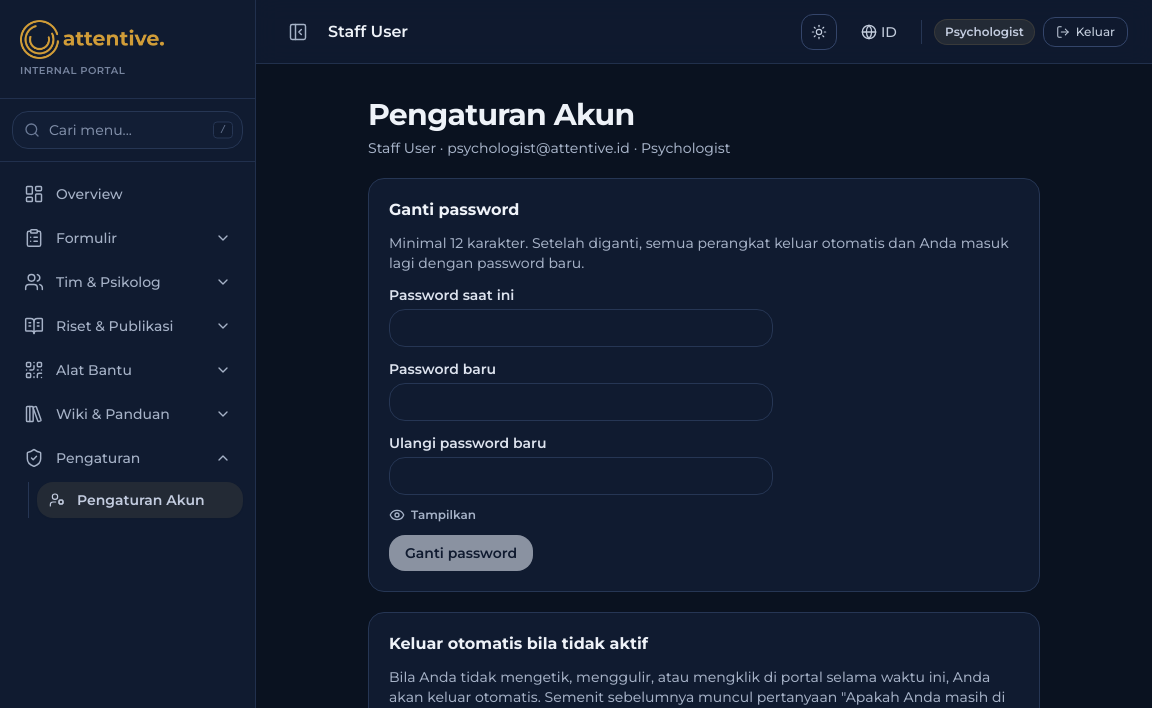
Scenario: admin dashboard update › checks the new password on the page before asking the server
Expected: the heading "Pengaturan Akun" is shown, [368, 96, 634, 133]
Type "old-password-123" into the password field labelled "Password saat ini" at (581, 328), box [389, 308, 773, 346]
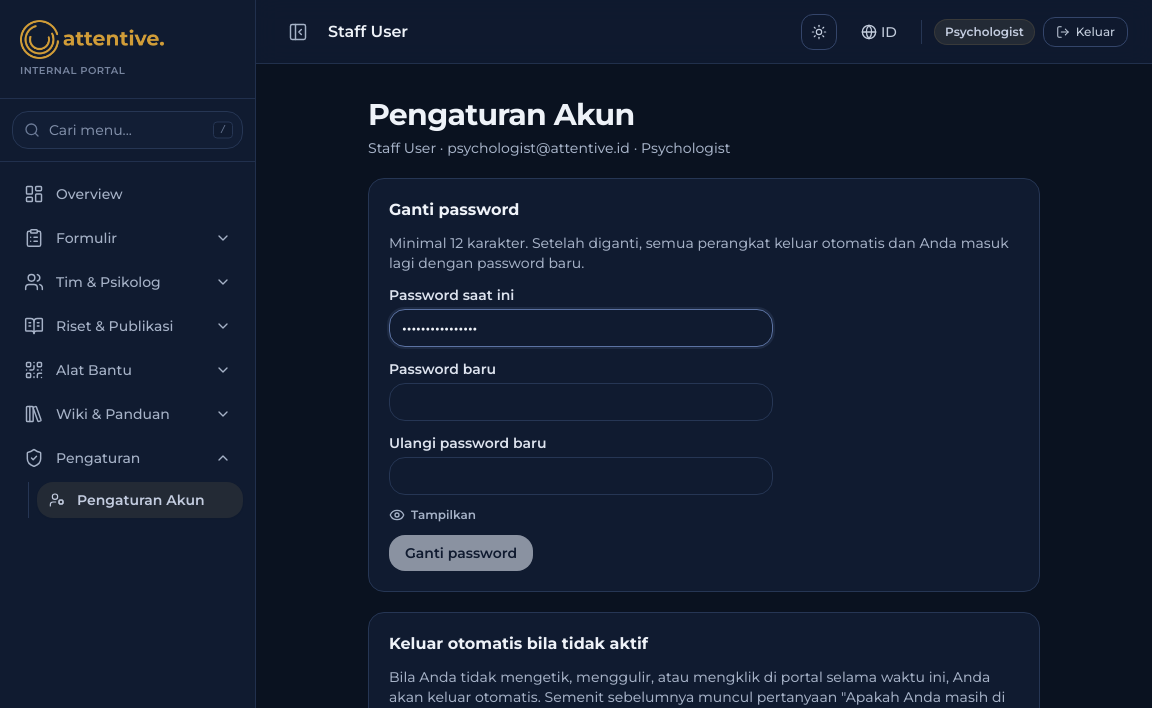
Type "a-new-password-1" into the password field labelled "Password baru" at (581, 402), box [389, 382, 773, 420]
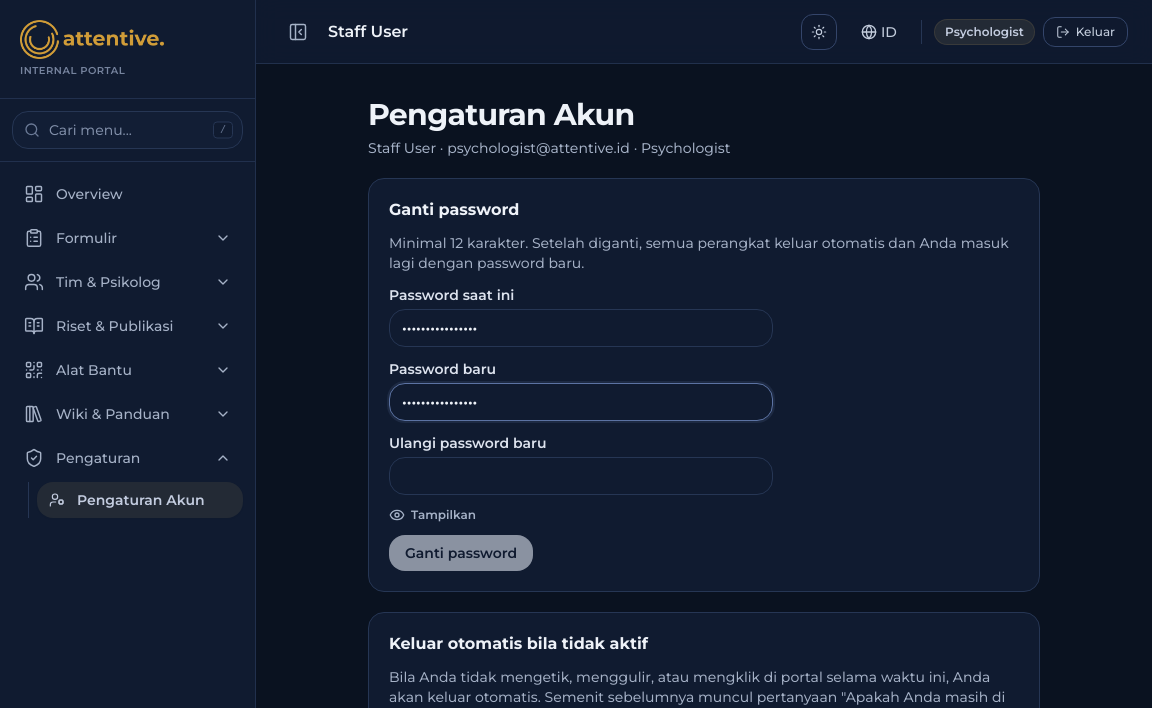
Type "a-different-one-2" into the password field labelled "Ulangi password baru" at (581, 476), box [389, 456, 773, 494]
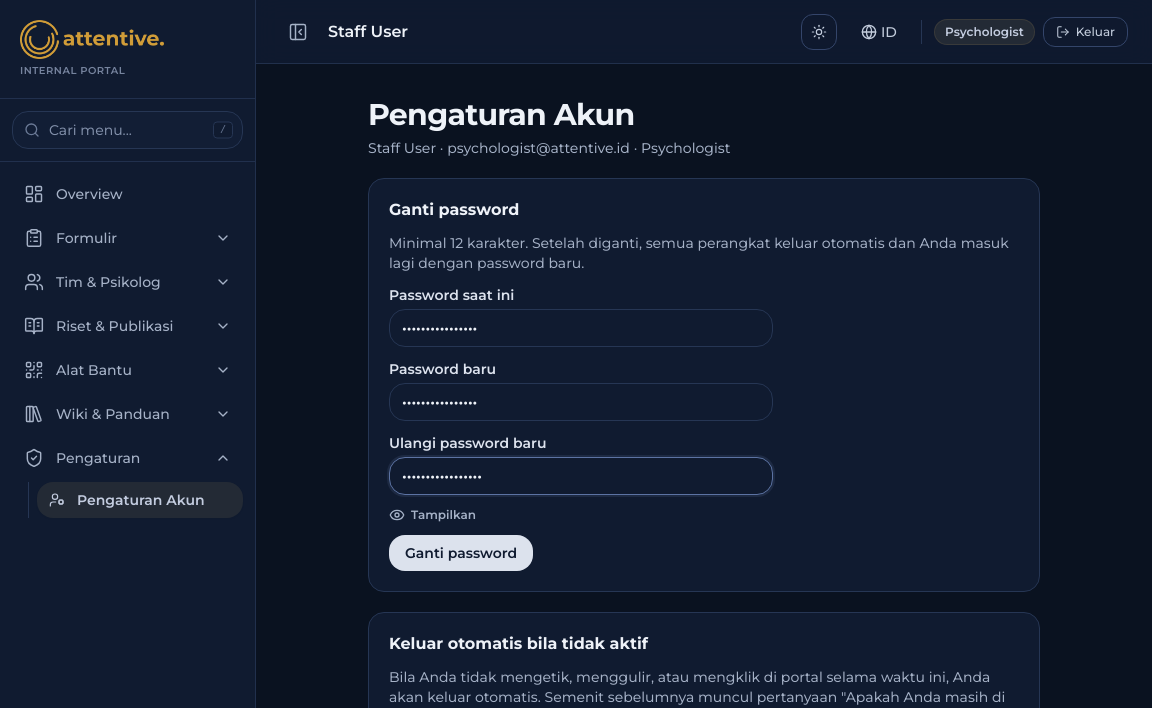
Click the button "Ganti password" at (461, 552), box [389, 534, 533, 570]
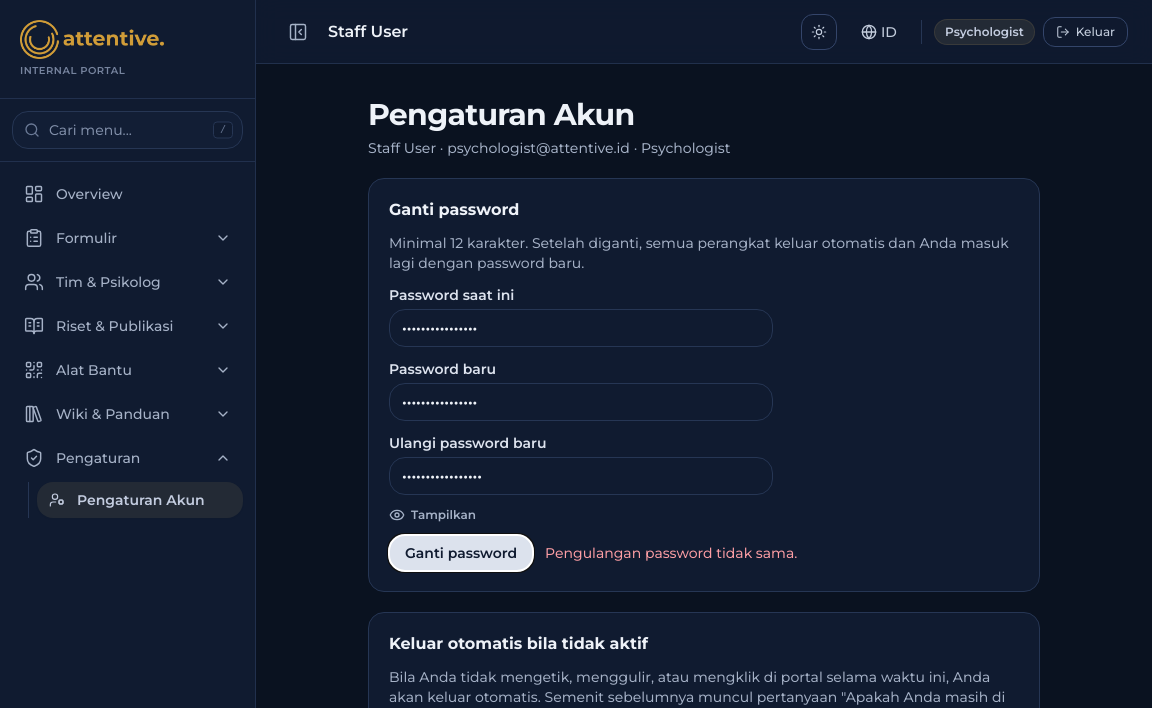
Result: the text "Pengulangan password tidak sama." is shown at [545, 542, 797, 562]
